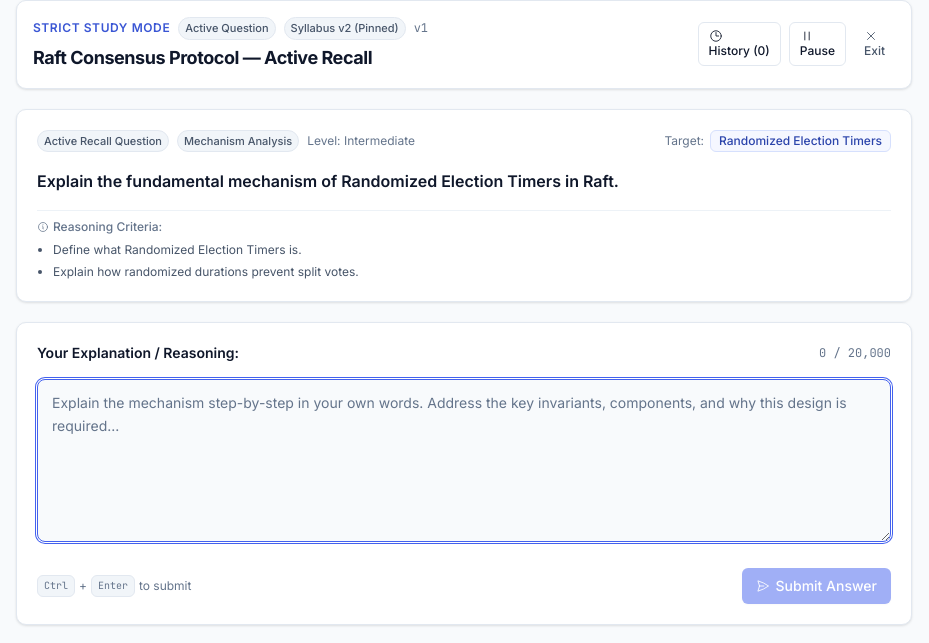
Test: StudyPage — Phase 08 Strict Study Mode Frontend › 12. reconciles session state on HTTP 409 stale sessionVersion conflict
Replace the text in the text box labelled "Your Explanation / Reasoning:" with "Answer with stale version." at {"x": 464, "y": 460}, box [37,379,891,542]
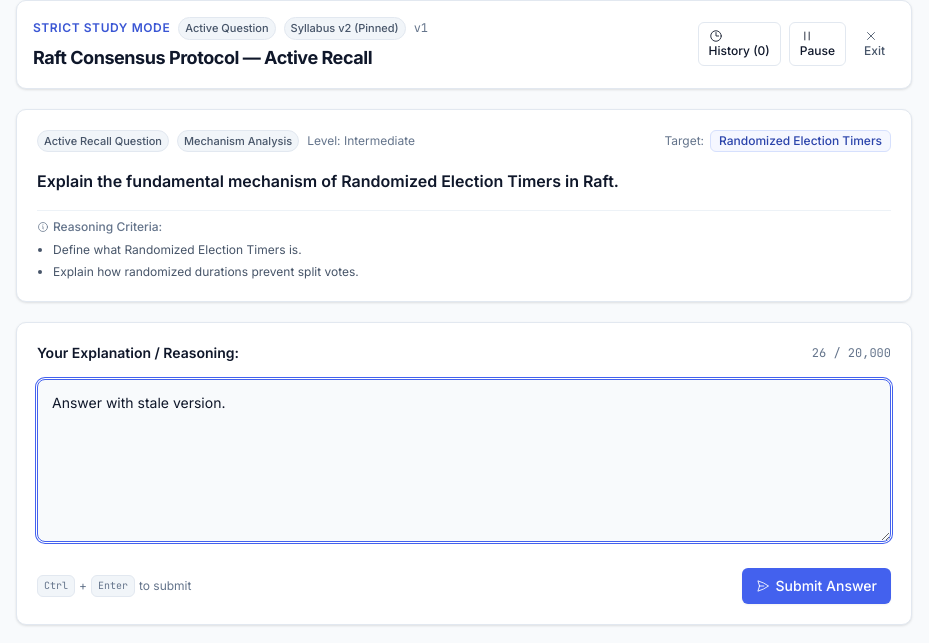
Click the button "Submit Answer" at {"x": 816, "y": 586}, box [742,568,891,604]
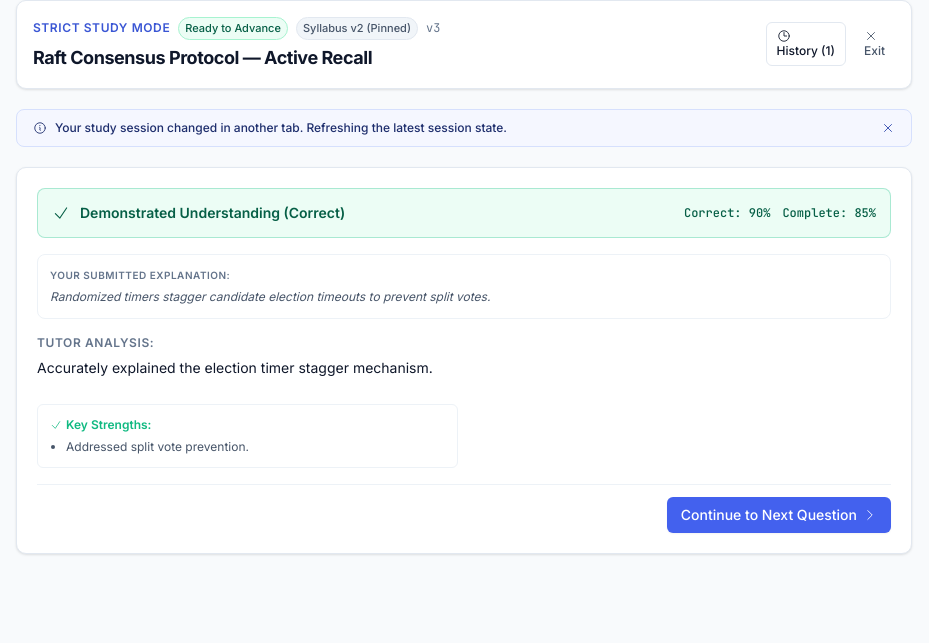
Now the text "Your study session changed in another tab. Refreshing the latest session state." is shown, box [55,120,507,136]
